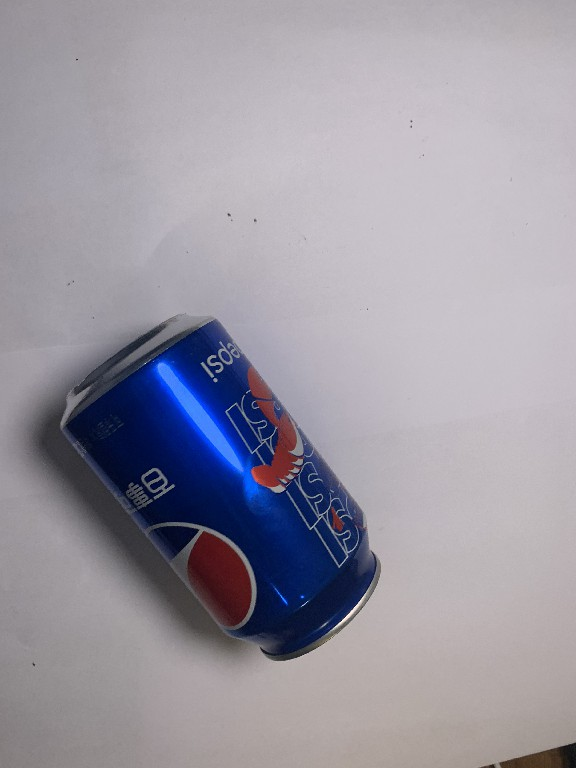can: (52, 307, 389, 669)
